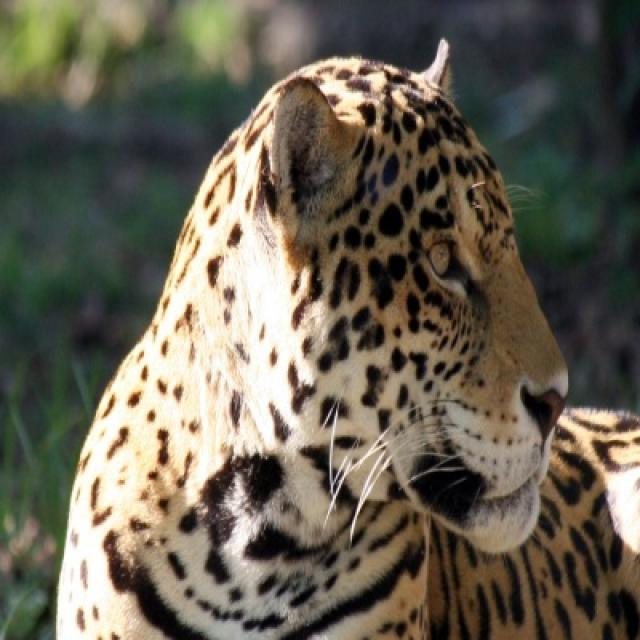Jaguar: (41, 22, 638, 638)
